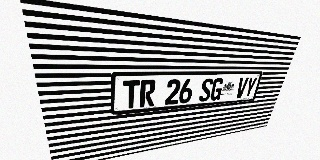2: (165, 79, 181, 105)
6: (178, 79, 194, 104)
G: (209, 78, 225, 101)
R: (139, 80, 156, 107)
S: (198, 78, 214, 102)
T: (123, 80, 140, 109)
V: (234, 77, 249, 98)
Y: (243, 77, 257, 98)
